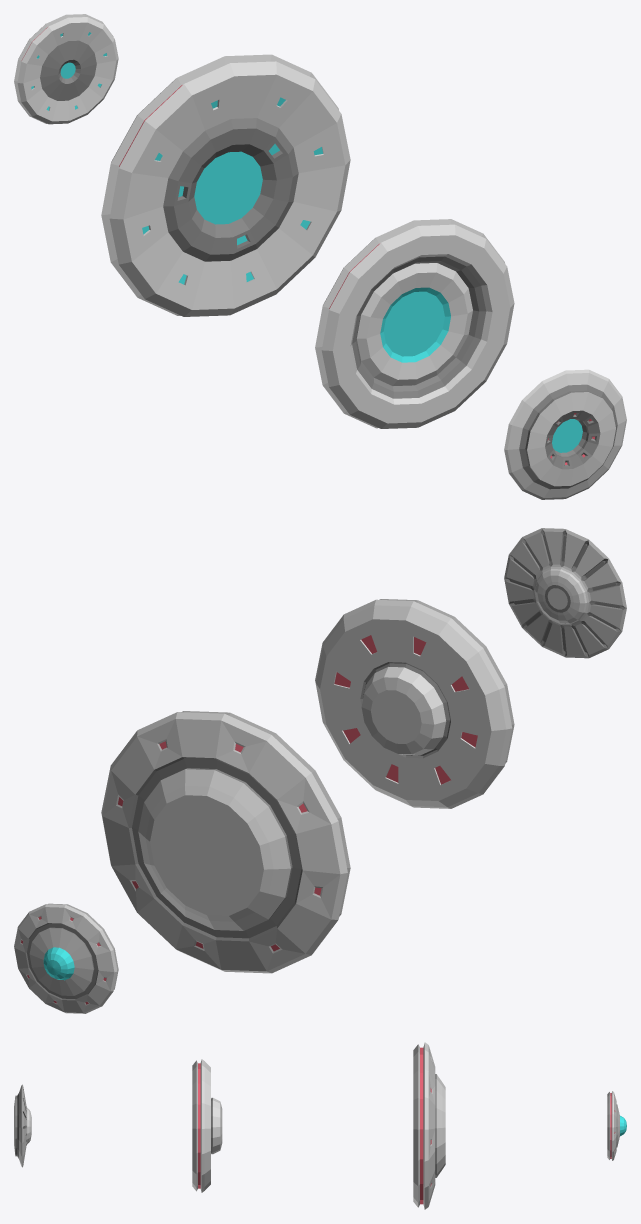
File: UFOs.fbx
The picture shows the model from 3 angles, top to bottom: view 1: azimuth 30°, elevation 25°; view 2: azimuth 150°, elevation 25°; view 3: azimuth 270°, elevation 25°; orthographic projection. The views are drawn at different scales.
Visible parts, largest first — view 1: UFO 2, UFO 3, UFO 4, UFO 1; view 2: UFO 2, UFO 3, UFO 4, UFO 1; view 3: UFO 2, UFO 3, UFO 4, UFO 1.
Part boxes in pixels (box(x1,y1,x2,y2)): UFO 2: box(101, 54, 350, 316); UFO 3: box(315, 219, 514, 428); UFO 4: box(504, 369, 626, 499); UFO 1: box(14, 14, 118, 124); UFO 2: box(101, 711, 350, 973); UFO 3: box(315, 599, 514, 808); UFO 4: box(504, 528, 626, 658); UFO 1: box(14, 903, 118, 1013); UFO 2: box(413, 1042, 445, 1209); UFO 3: box(192, 1059, 222, 1192); UFO 4: box(14, 1084, 31, 1167); UFO 1: box(607, 1091, 626, 1160).
Size of the model in its own units: 3000 by 3000 by 10944.
